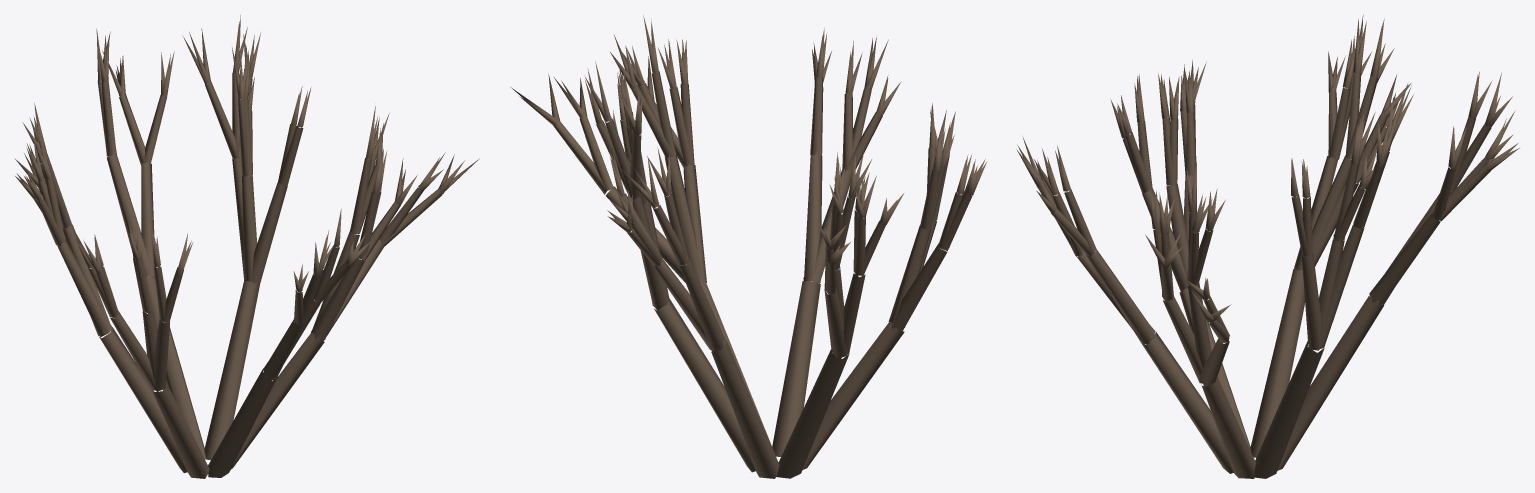
File: bush-bare-b.glb
The picture shows the model from 3 angles, left to right: view 1: azimuth 30°, elevation 25°; view 2: azimuth 150°, elevation 25°; view 3: azimuth 270°, elevation 25°; orthographic projection. The views are drawn at different scales.
Visible parts, largest first — view 1: bush-bare-b; view 2: bush-bare-b; view 3: bush-bare-b.
Part boxes in pixels (<box>): bush-bare-b: <box>15,15,479,478</box>; bush-bare-b: <box>510,15,986,478</box>; bush-bare-b: <box>1016,15,1519,478</box>.
Size of the model in its own units: 0.7625 by 0.6738 by 0.7248.
